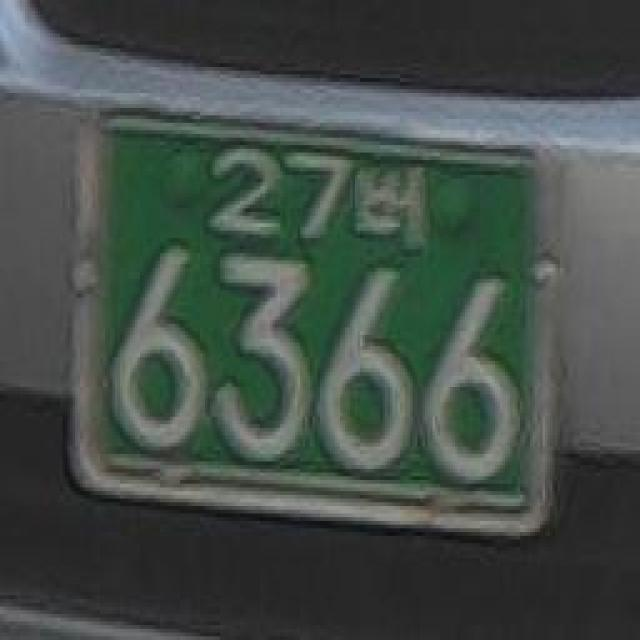illegal_plate: (64, 89, 569, 564)
